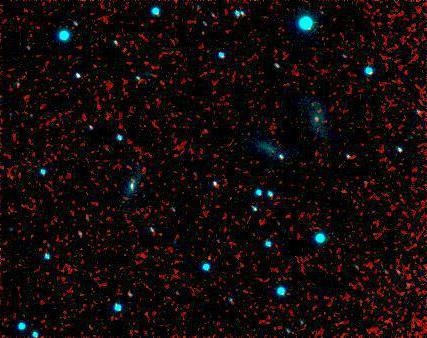star: (187, 17, 217, 47)
